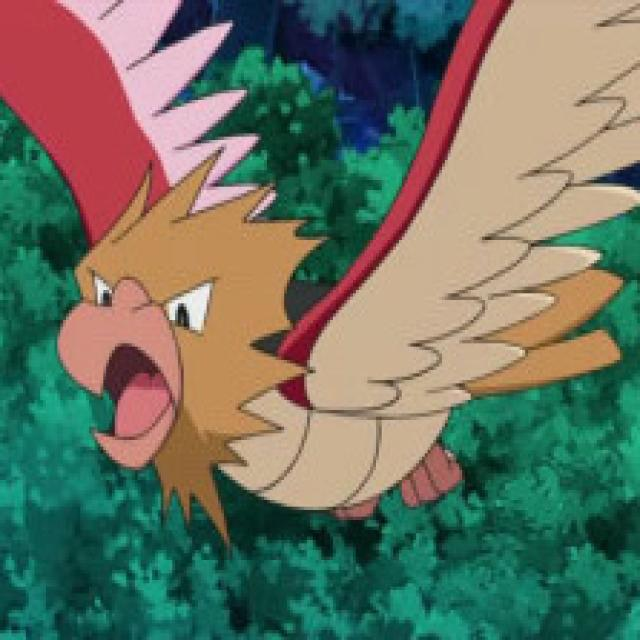Spearow: (55, 144, 468, 524)
